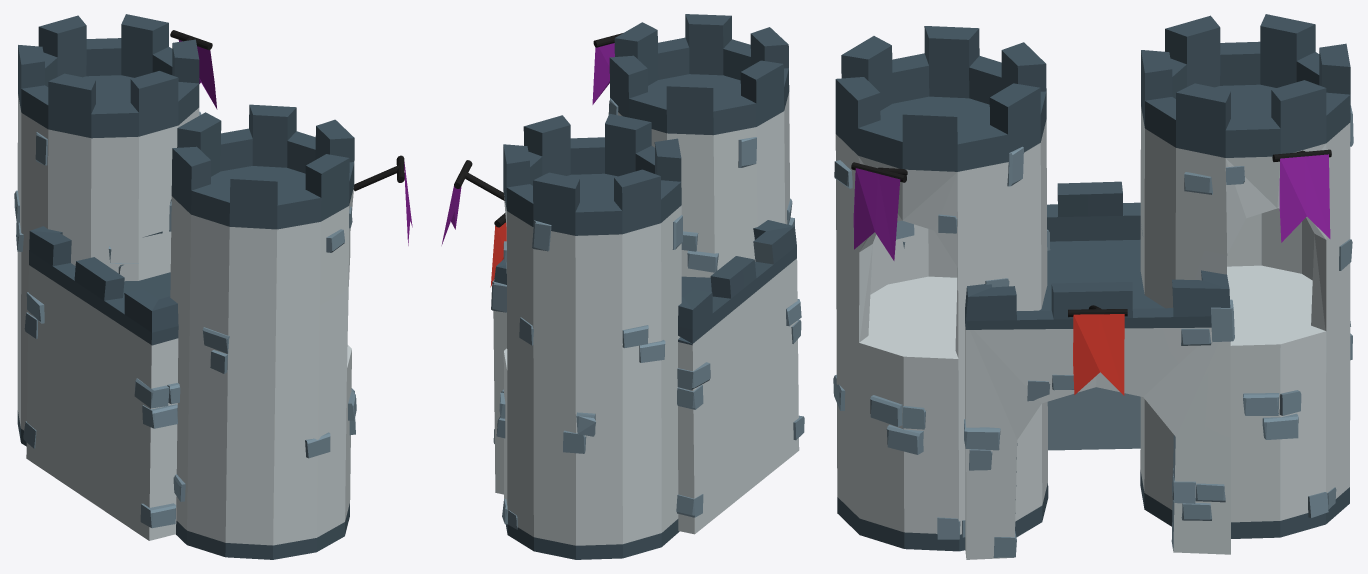
The model's file is tower_lvl2alt.fbx.
3 views of the same model, side by side, from view 1: azimuth 30°, elevation 25°; view 2: azimuth 150°, elevation 25°; view 3: azimuth 270°, elevation 25° (orthographic). The views are drawn at different scales.
Visible parts, largest first — view 1: group1701565837.001; view 2: group1701565837.001; view 3: group1701565837.001.
Boxes of the visible parts, x1,y1,x2,y2 form: group1701565837.001: (14,14,412,559); group1701565837.001: (441,14,804,559); group1701565837.001: (833,14,1353,559).
Bounding box in the file's own units: 87.94 × 128 × 137.
